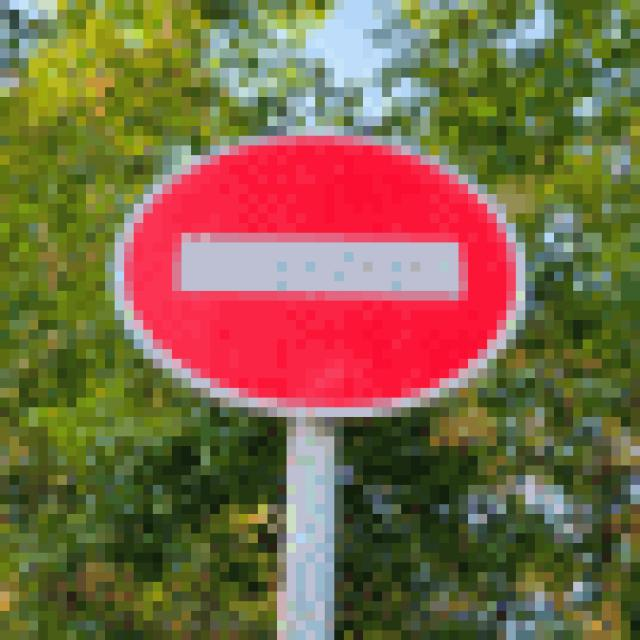no entry: (107, 127, 536, 425)
